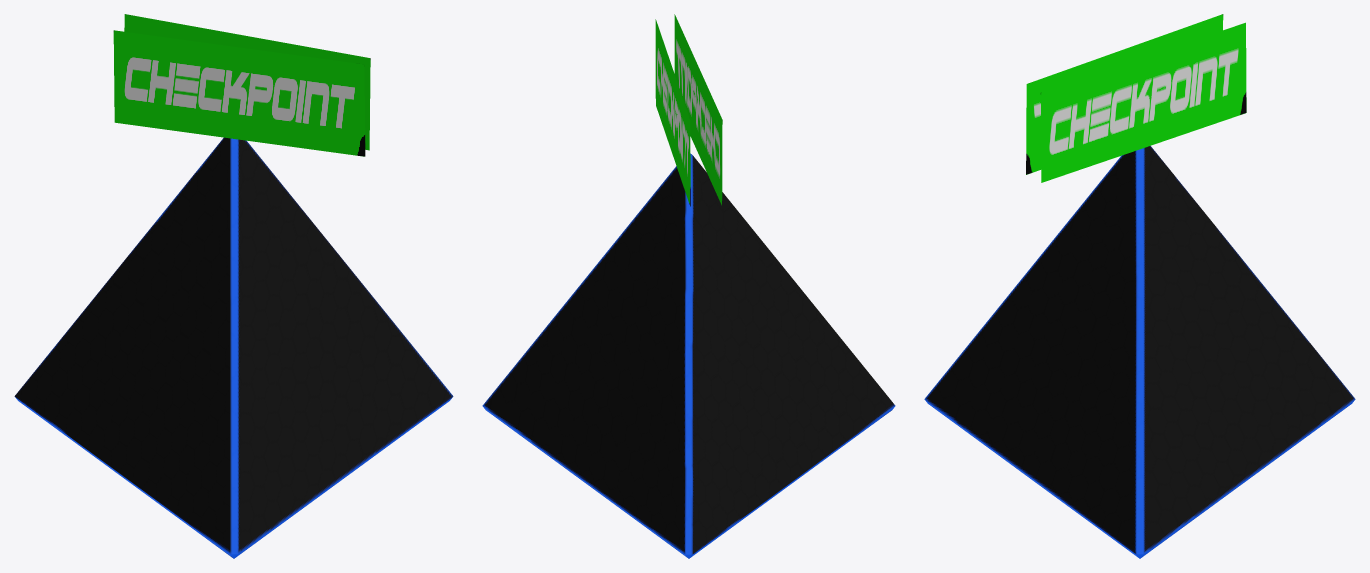
File: CheckPoint.fbx
3 renders of one model, left to right at view 1: azimuth 30°, elevation 25°; view 2: azimuth 150°, elevation 25°; view 3: azimuth 270°, elevation 25°, orthographic. The views are drawn at different scales.
Visible parts, largest first — view 1: Object_0, Plane, Plane.001; view 2: Object_0, Plane, Plane.001; view 3: Object_0, Plane.001, Plane.
Part boxes in pixels (x1=…): Object_0: x1=14, y1=137, x2=453, y2=558; Plane: x1=113, y1=30, x2=365, y2=156; Plane.001: x1=124, y1=14, x2=370, y2=150; Object_0: x1=482, y1=153, x2=895, y2=558; Plane: x1=674, y1=14, x2=722, y2=205; Plane.001: x1=655, y1=19, x2=690, y2=206; Object_0: x1=924, y1=146, x2=1355, y2=558; Plane.001: x1=1040, y1=22, x2=1246, y2=182; Plane: x1=1026, y1=14, x2=1223, y2=174.
Size of the model in its own units: 8372 by 10049 by 9667.
3 materials, 3 textured.
